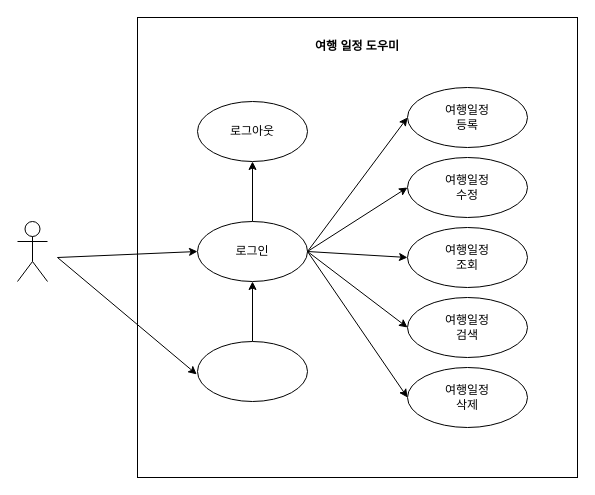
The diagram is 595 pixels wide and 495 high, and some of its shapes have lost their labels. The shapes that lost their labels are listed below. From the top down, each one's box as (x1, y1, x2, y2) in pixels, then its label:
(16, 220, 48, 282): Actor
(196, 340, 308, 402): 회원가입
